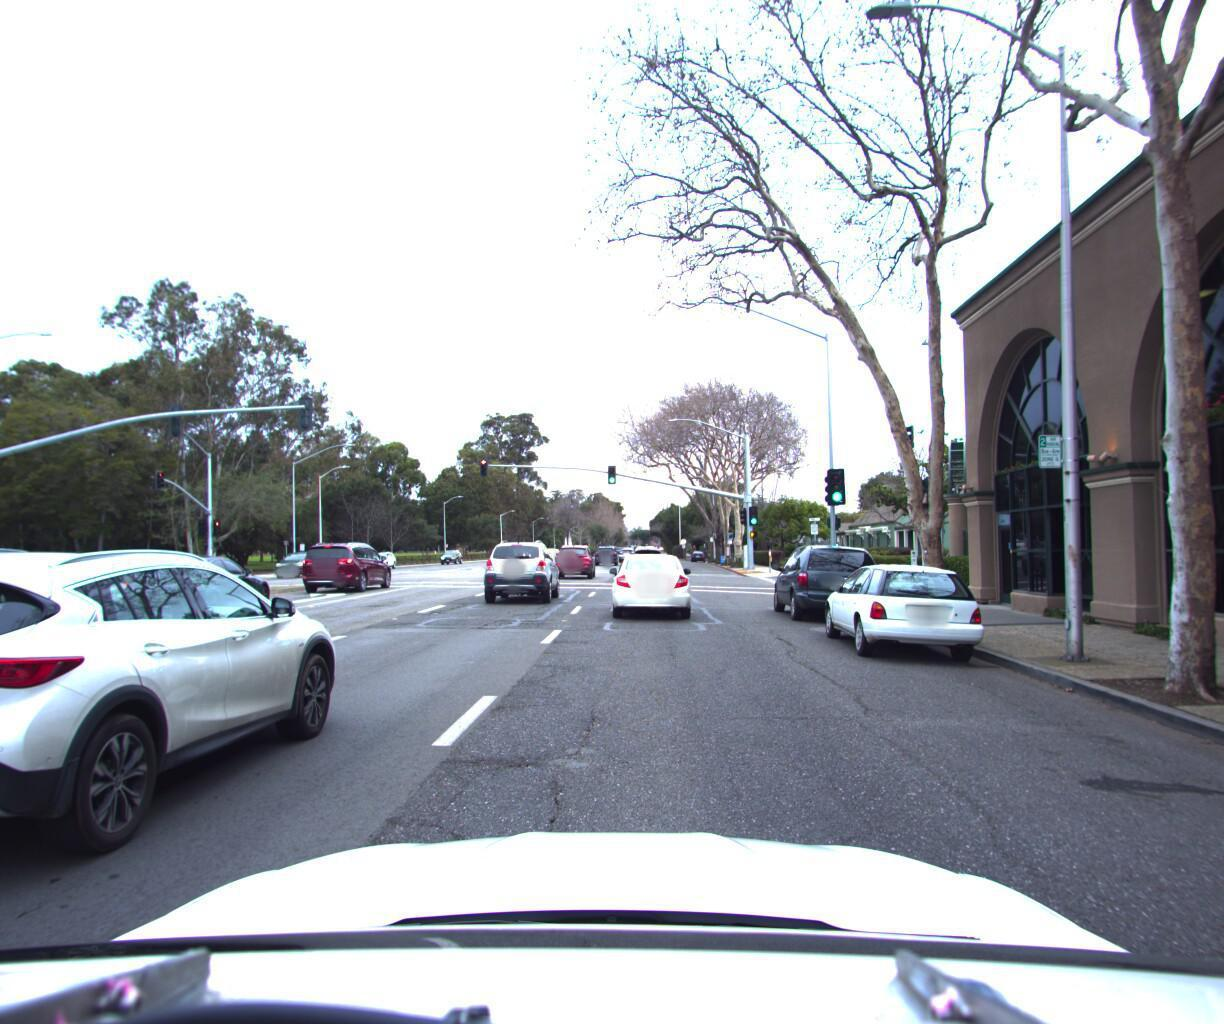car: (806, 554, 998, 666), (113, 550, 282, 622), (764, 534, 890, 621), (609, 547, 691, 623), (480, 535, 564, 608), (294, 536, 400, 592), (625, 542, 669, 583), (271, 545, 329, 575), (551, 537, 596, 575), (363, 546, 400, 565), (530, 544, 560, 565), (591, 540, 618, 562)
